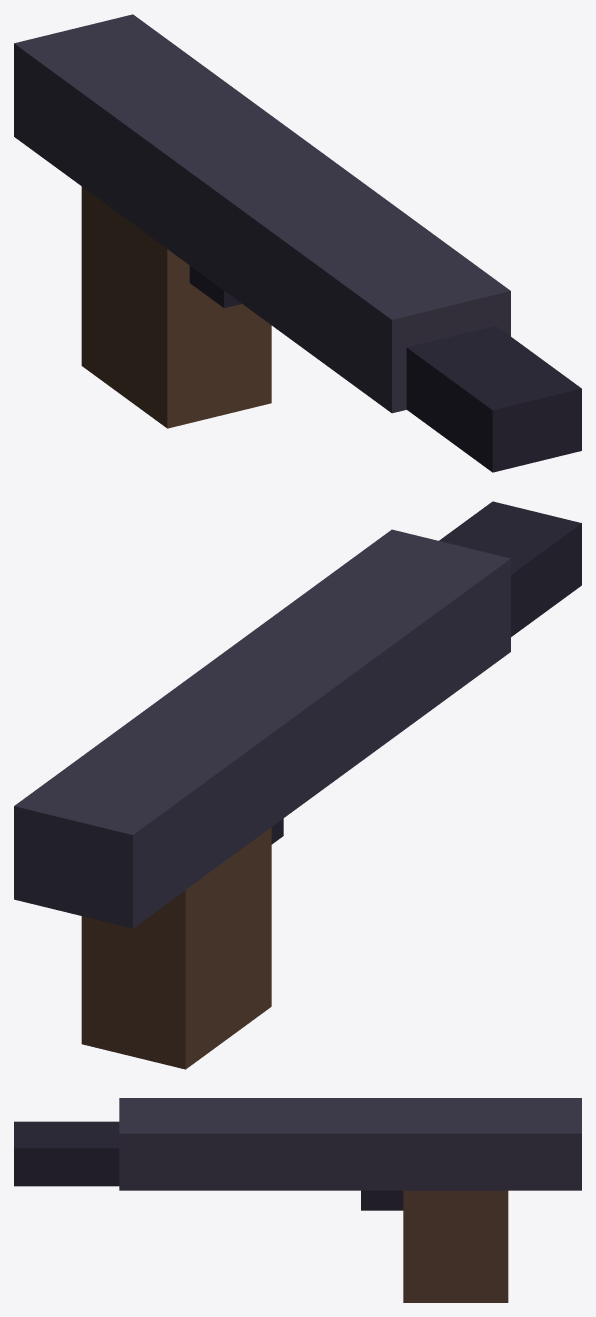
File: pistol_prop.obj
The picture shows the model from 3 angles, top to bottom: view 1: azimuth 30°, elevation 25°; view 2: azimuth 150°, elevation 25°; view 3: azimuth 270°, elevation 25°; orthographic projection. The views are drawn at different scales.
Parts seen in each view (by area): view 1: pistol_prop; view 2: pistol_prop; view 3: pistol_prop.
Part boxes in pixels (box(x1,y1,x2,y2)): pistol_prop: box(14, 14, 581, 472); pistol_prop: box(14, 501, 581, 1069); pistol_prop: box(14, 1098, 581, 1302).
Size of the model in its own units: 0.04 by 0.09 by 0.27.
